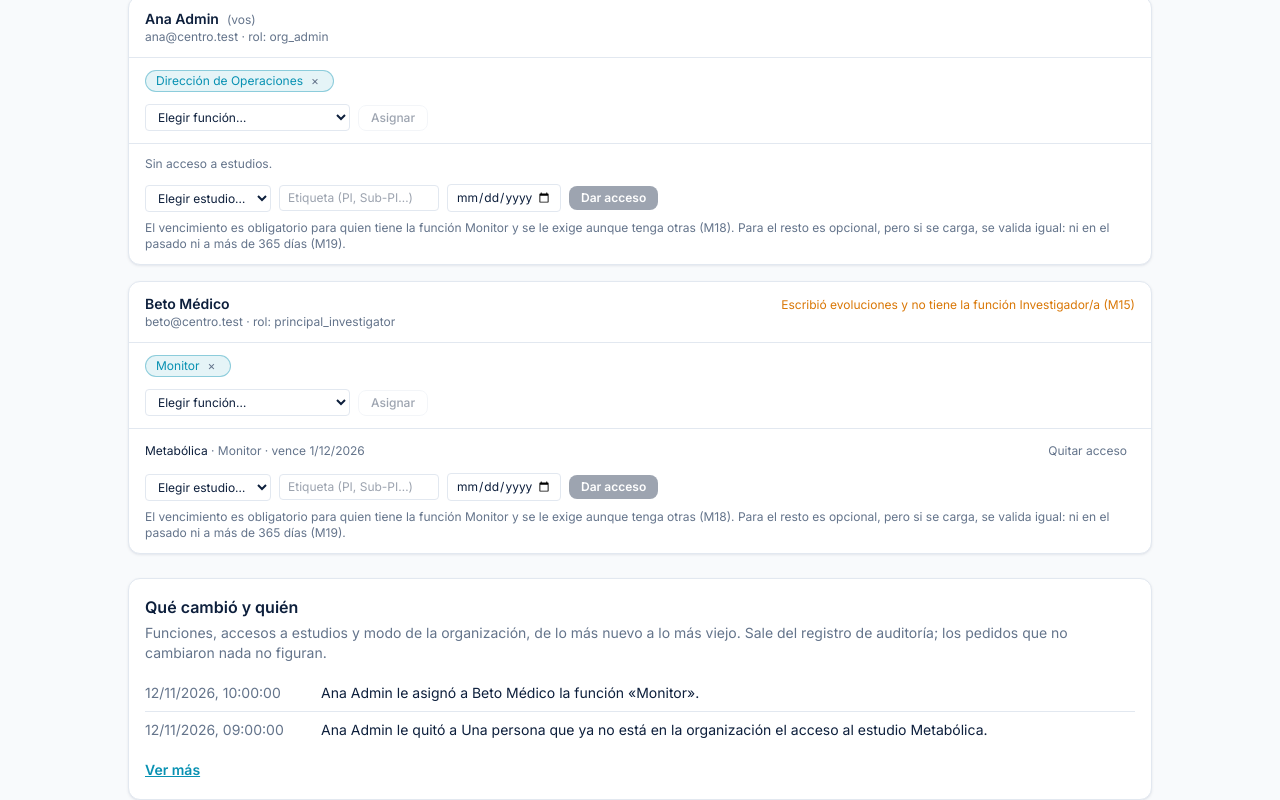
Test: TeamAccessScreen — qué cambió y quién › «Ver más» pide la página siguiente con el cursor y la suma abajo
The width and height of the screenshot is (1280, 800).
(page scrolled)
Click the button "Ver más".
click(173, 770)  # box [145,760,200,780]
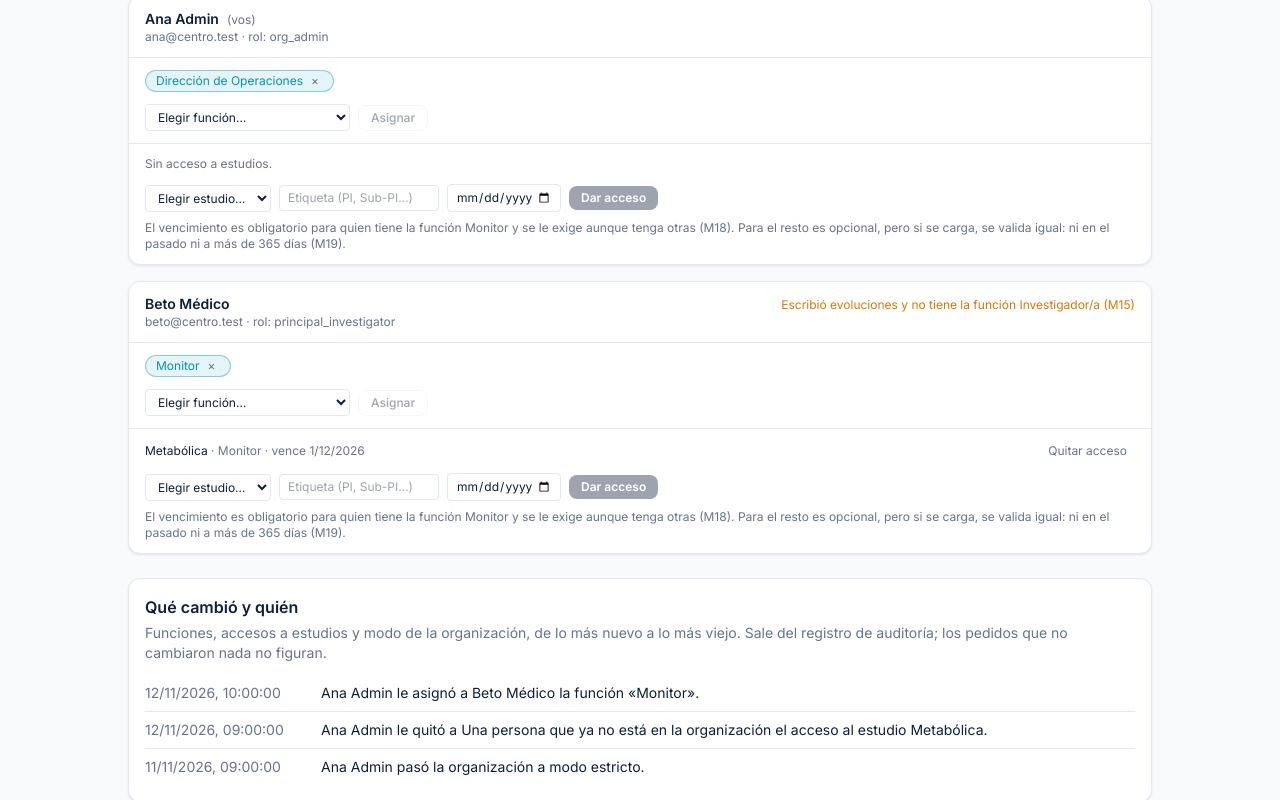
Check: the text "Ana Admin pasó la organización a modo estricto." is shown, box [321,757,645,777]
